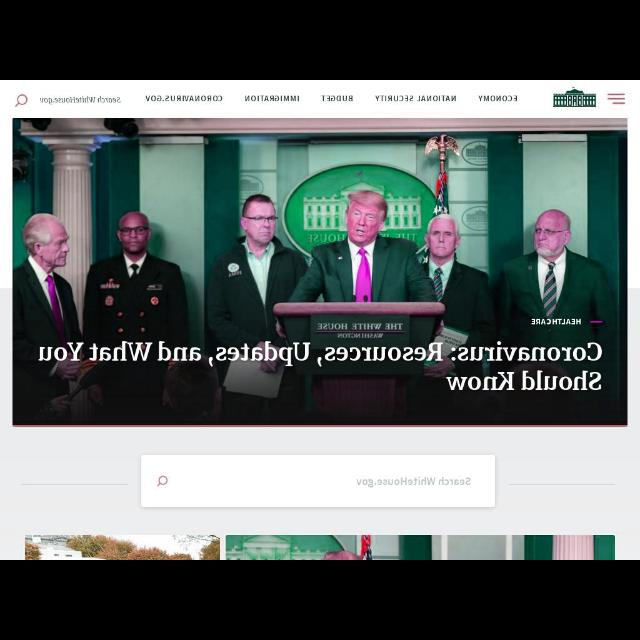backgroundimage: (11, 120, 626, 426)
icon: (606, 90, 626, 108), (154, 474, 168, 490), (15, 92, 28, 108)
image: (24, 537, 614, 557), (552, 86, 596, 108)
input: (146, 456, 494, 508)
text: (35, 340, 603, 390), (354, 476, 470, 490), (144, 92, 222, 104), (41, 95, 120, 105), (374, 95, 458, 103), (244, 95, 300, 103), (528, 318, 582, 326), (477, 94, 517, 102), (321, 94, 353, 102)
toolbar: (11, 84, 629, 114)
